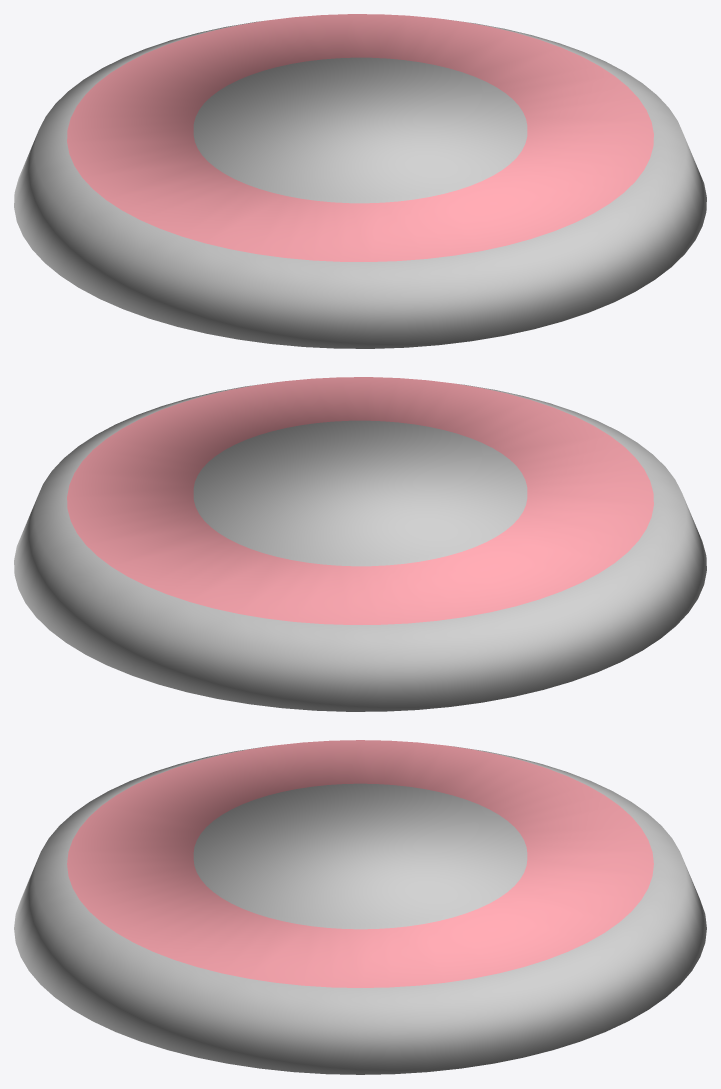
The model's file is GBZH35_Helipad_Light_Red.gltf.
3 renders of one model, top to bottom at view 1: azimuth 30°, elevation 25°; view 2: azimuth 150°, elevation 25°; view 3: azimuth 270°, elevation 25°, orthographic.
Visible parts, largest first — view 1: Light_Red; view 2: Light_Red; view 3: Light_Red.
Boxes of the visible parts, box(x1,y1,x2,y2) form: Light_Red: box(14, 14, 706, 348); Light_Red: box(14, 377, 706, 711); Light_Red: box(14, 740, 706, 1074).
Size of the model in its own units: 0.4 by 0.0473 by 0.4.
